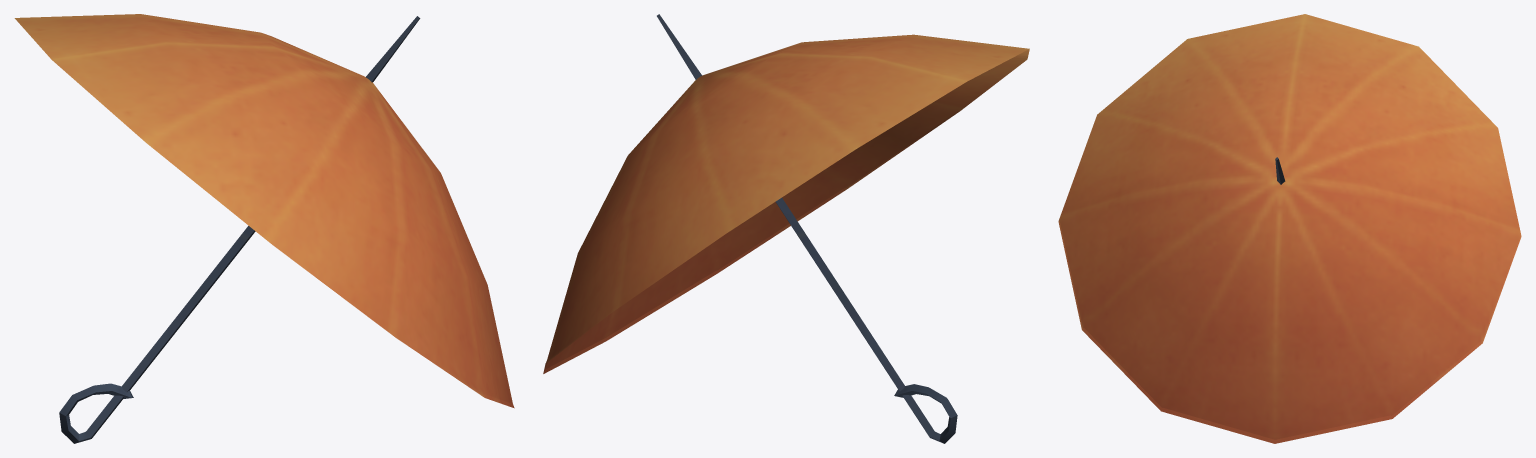
Rendered from SiWangPenQuan_01_san_01_UV2.FBX.
3 views of the same model, side by side, from view 1: azimuth 30°, elevation 25°; view 2: azimuth 150°, elevation 25°; view 3: azimuth 270°, elevation 25° (orthographic). The views are drawn at different scales.
Visible parts, largest first — view 1: SiWangPenQuan_01_san_01_UV2; view 2: SiWangPenQuan_01_san_01_UV2; view 3: SiWangPenQuan_01_san_01_UV2.
Boxes of the visible parts, x1,y1,x2,y2 form: SiWangPenQuan_01_san_01_UV2: [14, 14, 514, 443]; SiWangPenQuan_01_san_01_UV2: [543, 14, 1029, 443]; SiWangPenQuan_01_san_01_UV2: [1058, 14, 1521, 443].
Size of the model in its own units: 356 by 328 by 482.
